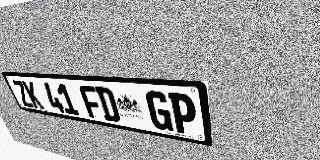1: (54, 83, 79, 116)
4: (41, 82, 66, 114)
D: (94, 86, 122, 123)
F: (78, 85, 105, 120)
G: (144, 90, 174, 132)
K: (21, 81, 45, 110)
P: (168, 92, 198, 136)
Z: (11, 80, 34, 108)
